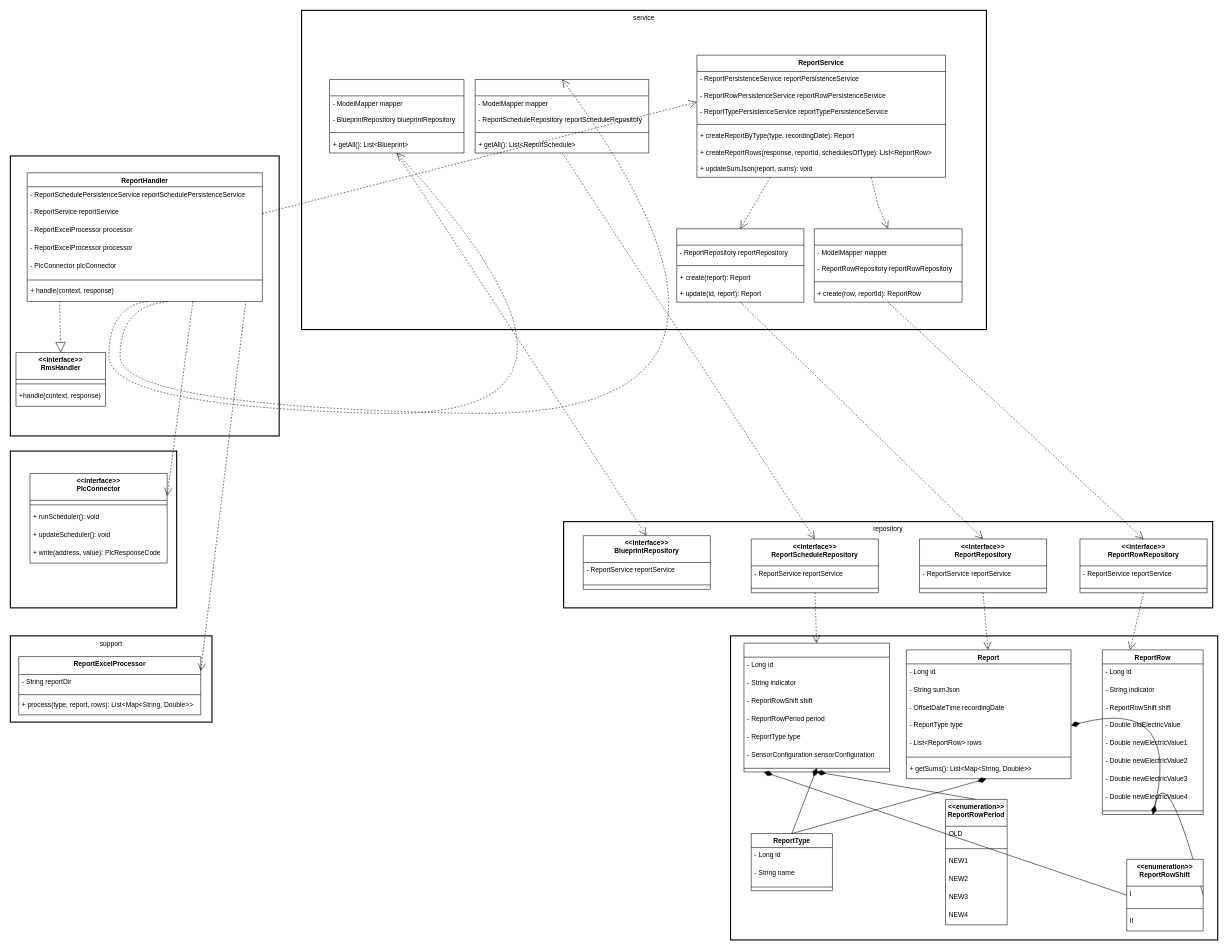
Some shapes in this 1228 by 950 pixel diagram are drawn without their labels. Here are the shapes that lost their labels. From the top down, the box of each, then its label:
(329, 79, 464, 153): BlueprintPersistenceService
(475, 79, 649, 153): ReportSchedulePersistenceService
(676, 228, 804, 302): ReportPersistenceService
(814, 228, 962, 302): ReportRowPersistenceService
(10, 155, 279, 436): event
(10, 450, 177, 608): api
(743, 643, 890, 772): ReportSchedule
(730, 635, 1218, 940): MODEL
